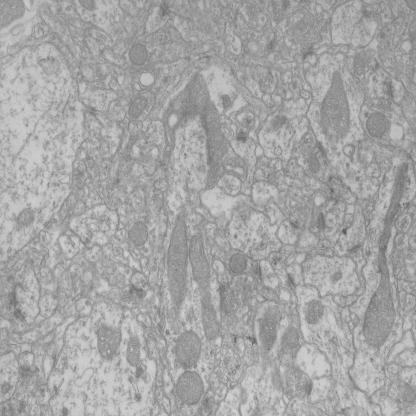mitochondria: (363, 158, 409, 348), (190, 232, 222, 339), (319, 69, 352, 143), (166, 212, 189, 312), (174, 329, 202, 369), (174, 370, 204, 407), (98, 321, 122, 359), (258, 318, 278, 352), (366, 110, 388, 140), (128, 220, 149, 248), (128, 94, 149, 121), (125, 336, 142, 368), (128, 42, 148, 68), (228, 252, 248, 276), (14, 207, 36, 228), (282, 328, 299, 355)
